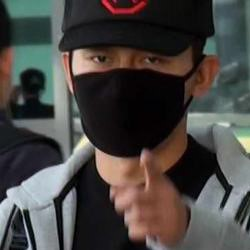mask: (64, 68, 188, 157)
